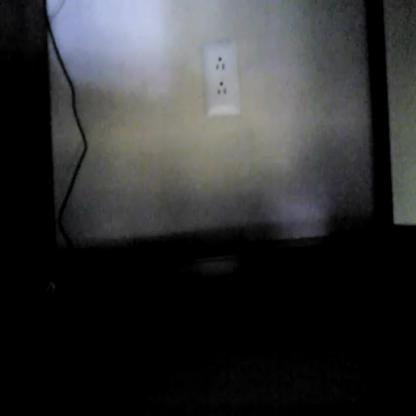OUTLET: (202, 42, 240, 116)
